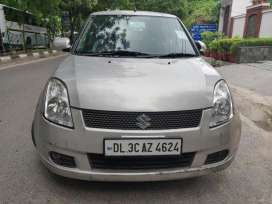nameplate: (103, 137, 183, 155)
